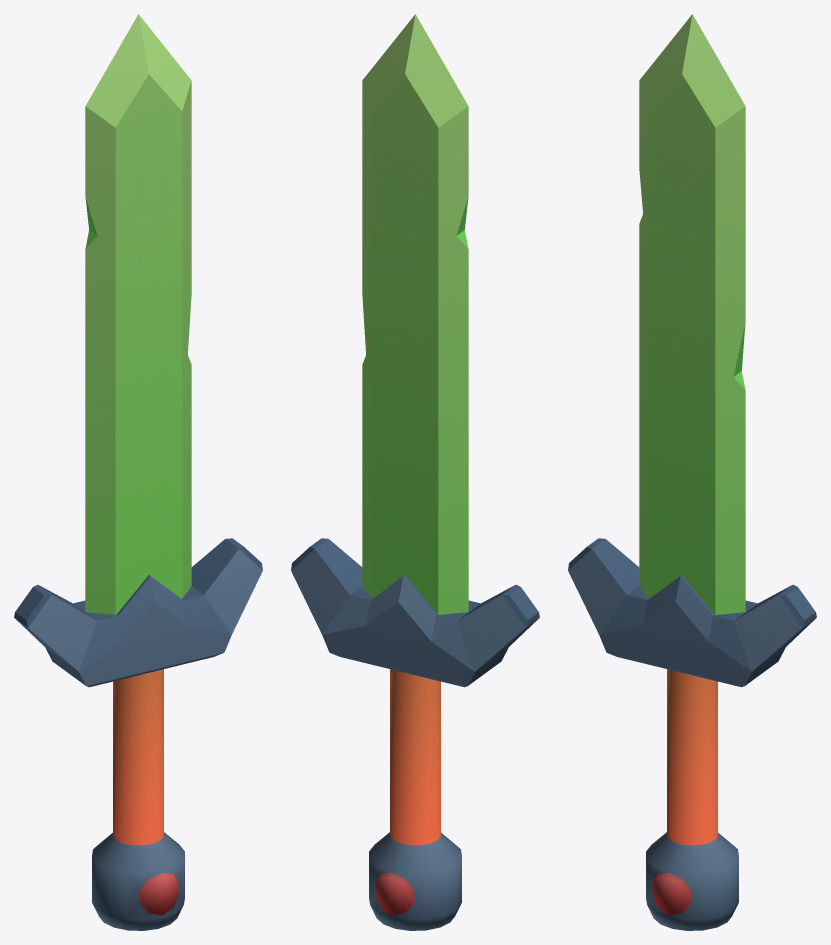
File: sword-by-minipoly-DVWQKyZRkL.glb
3 views of the same model, side by side, from view 1: azimuth 30°, elevation 25°; view 2: azimuth 150°, elevation 25°; view 3: azimuth 330°, elevation 25° (orthographic).
Visible parts, largest first — view 1: Sword1.001; view 2: Sword1.001; view 3: Sword1.001.
Boxes of the visible parts, x1,y1,x2,y2 form: Sword1.001: [14, 14, 262, 930]; Sword1.001: [291, 14, 539, 930]; Sword1.001: [568, 14, 816, 930].
Bounding box in the file's own units: 0.4298 × 1.57 × 0.1645.
Materials: 1 (1 with a texture image).
